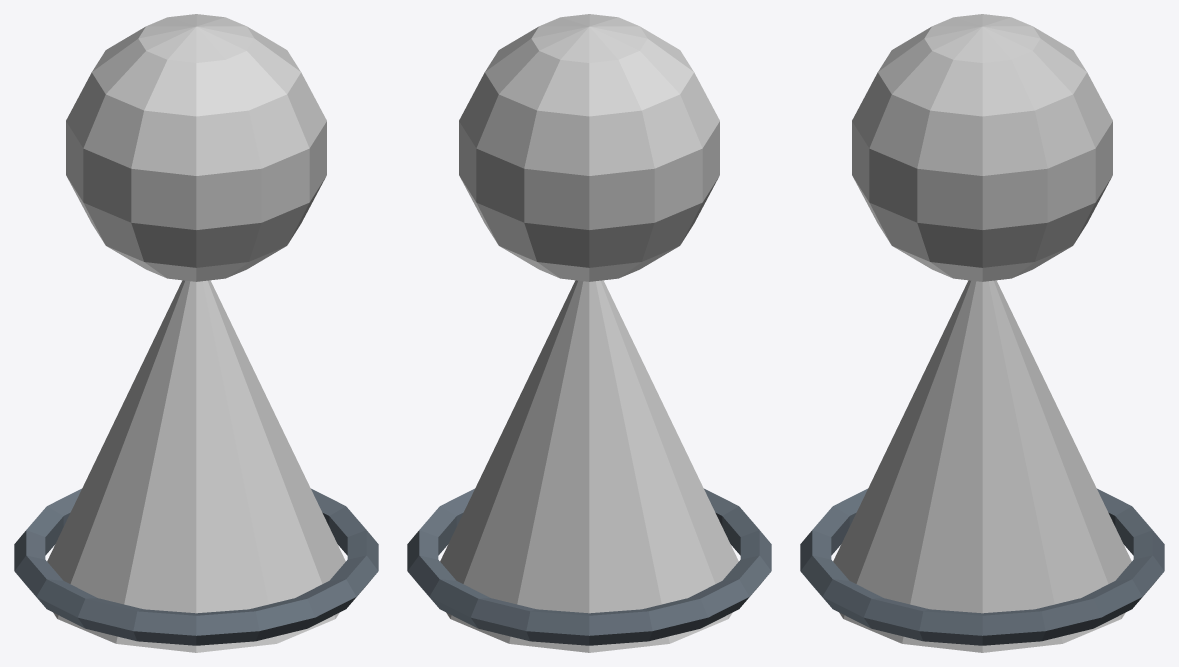
Rendered from marcador.glb.
3 views of the same model, side by side, from view 1: azimuth 30°, elevation 25°; view 2: azimuth 150°, elevation 25°; view 3: azimuth 270°, elevation 25° (orthographic).
Visible parts, largest first — view 1: marcador; view 2: marcador; view 3: marcador.
Boxes of the visible parts, x1,y1,x2,y2 form: marcador: (14,14,378,652); marcador: (407,14,771,652); marcador: (800,14,1164,652).
Bounding box in the file's own units: 0.552 × 0.92 × 0.5436.
